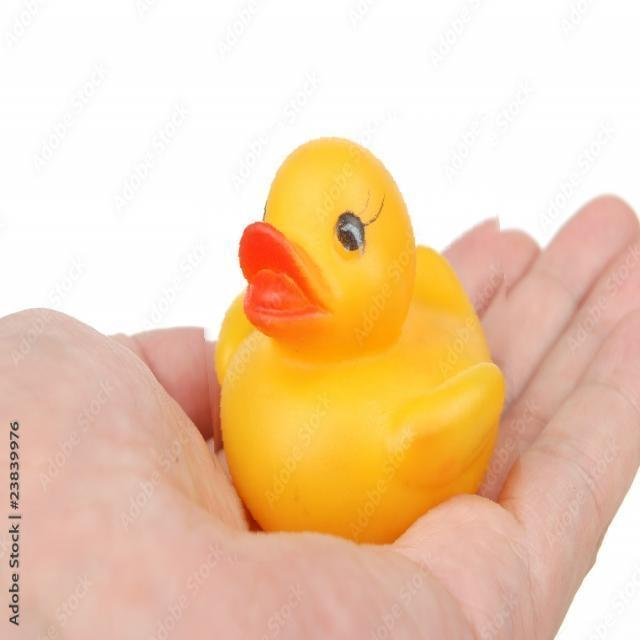rubber-duck: (215, 137, 502, 541)
